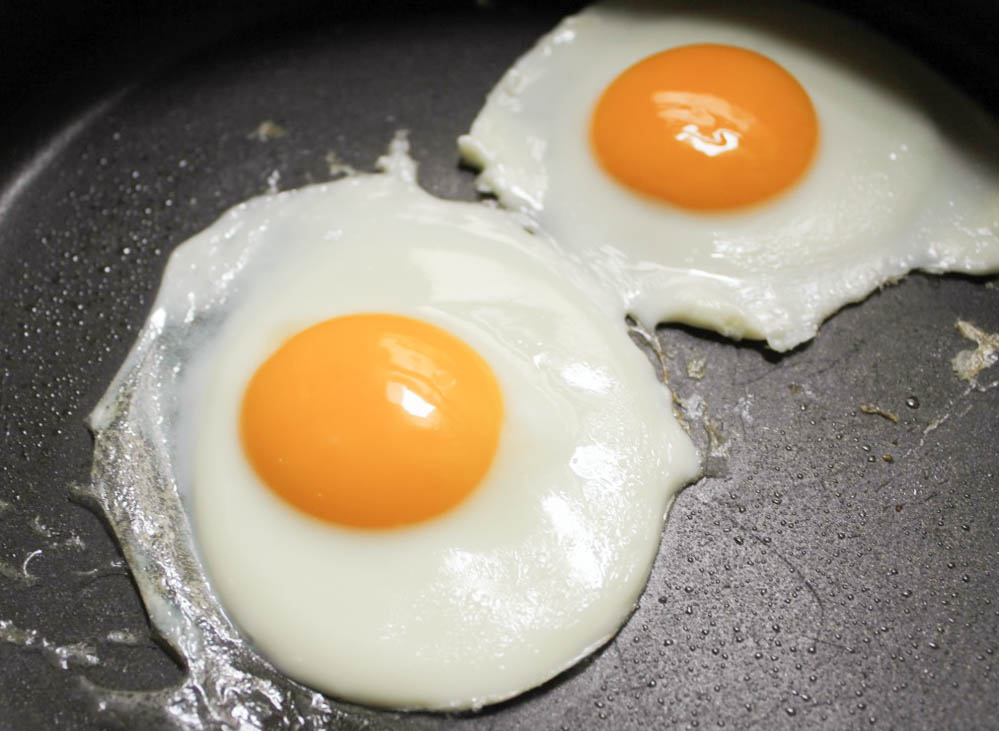fried egg: (180, 246, 596, 686), (537, 28, 884, 290)
